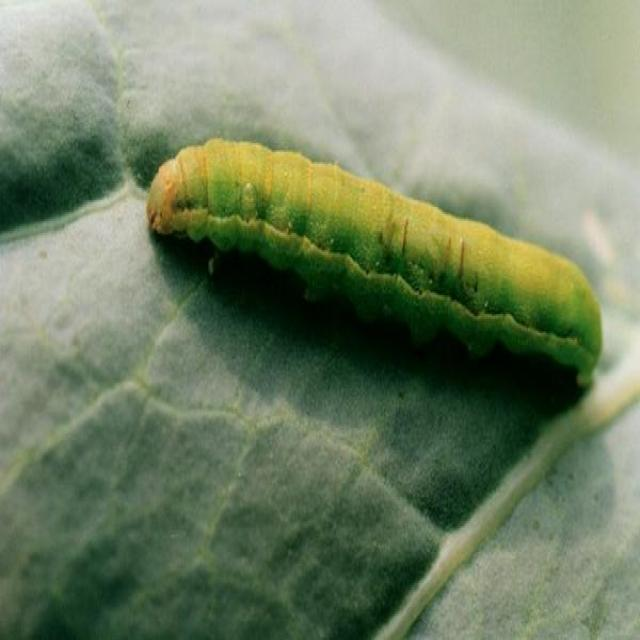BeetArmyWorm-Larva-: (142, 133, 604, 382)
